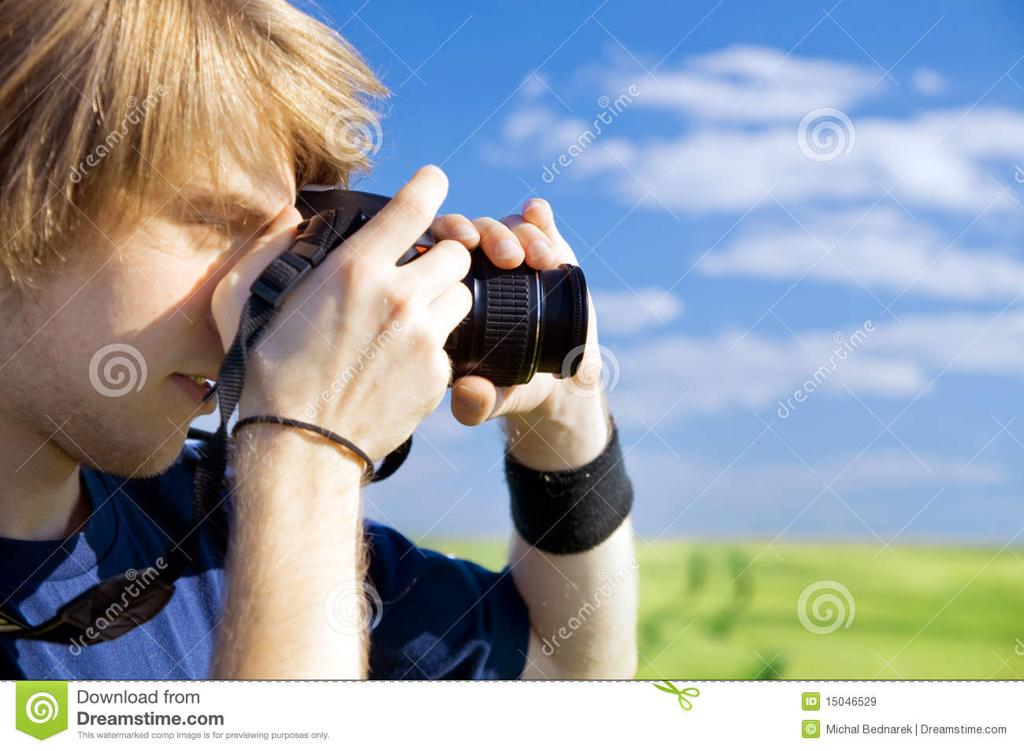face: (26, 60, 352, 488)
